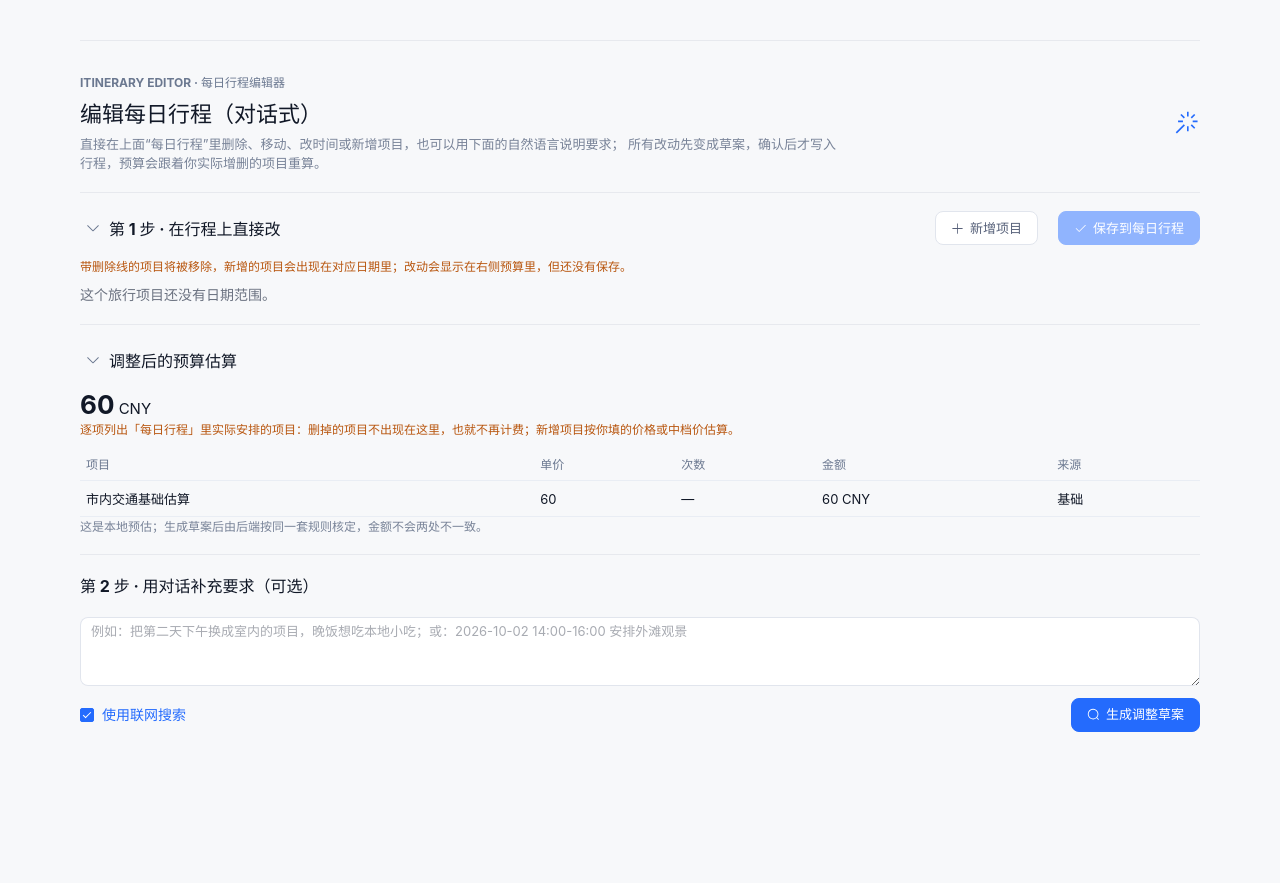
Test: TripAdjustmentAgent › keeps the itinerary unchanged when a draft is rejected
The width and height of the screenshot is (1280, 883).
Type "2026-10-02 14:00-16:00 安排 Agent Museum" into the text box named "行程调整指令" at point(640, 651), box left=80, top=617, right=1200, bottom=686
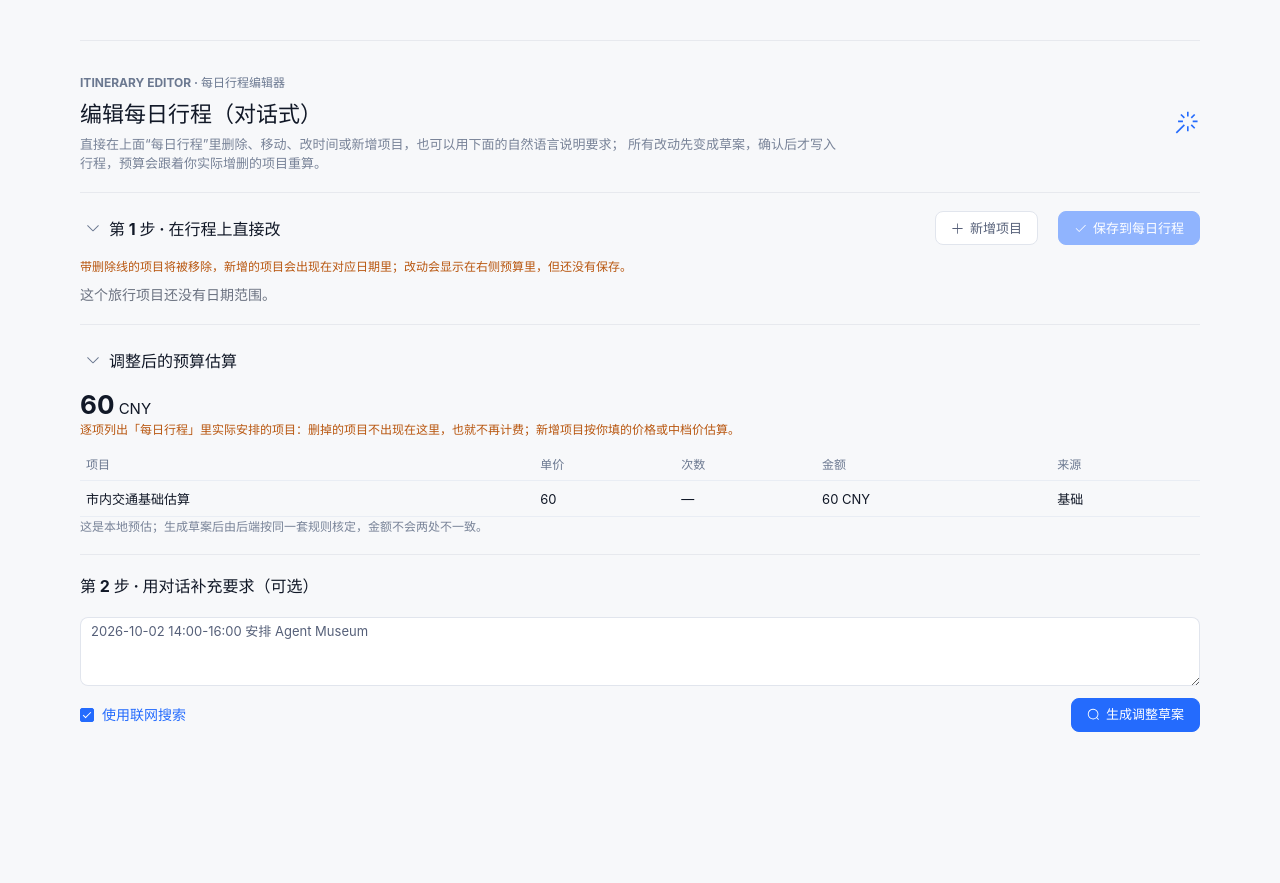
Submit the form, box left=80, top=617, right=1200, bottom=732
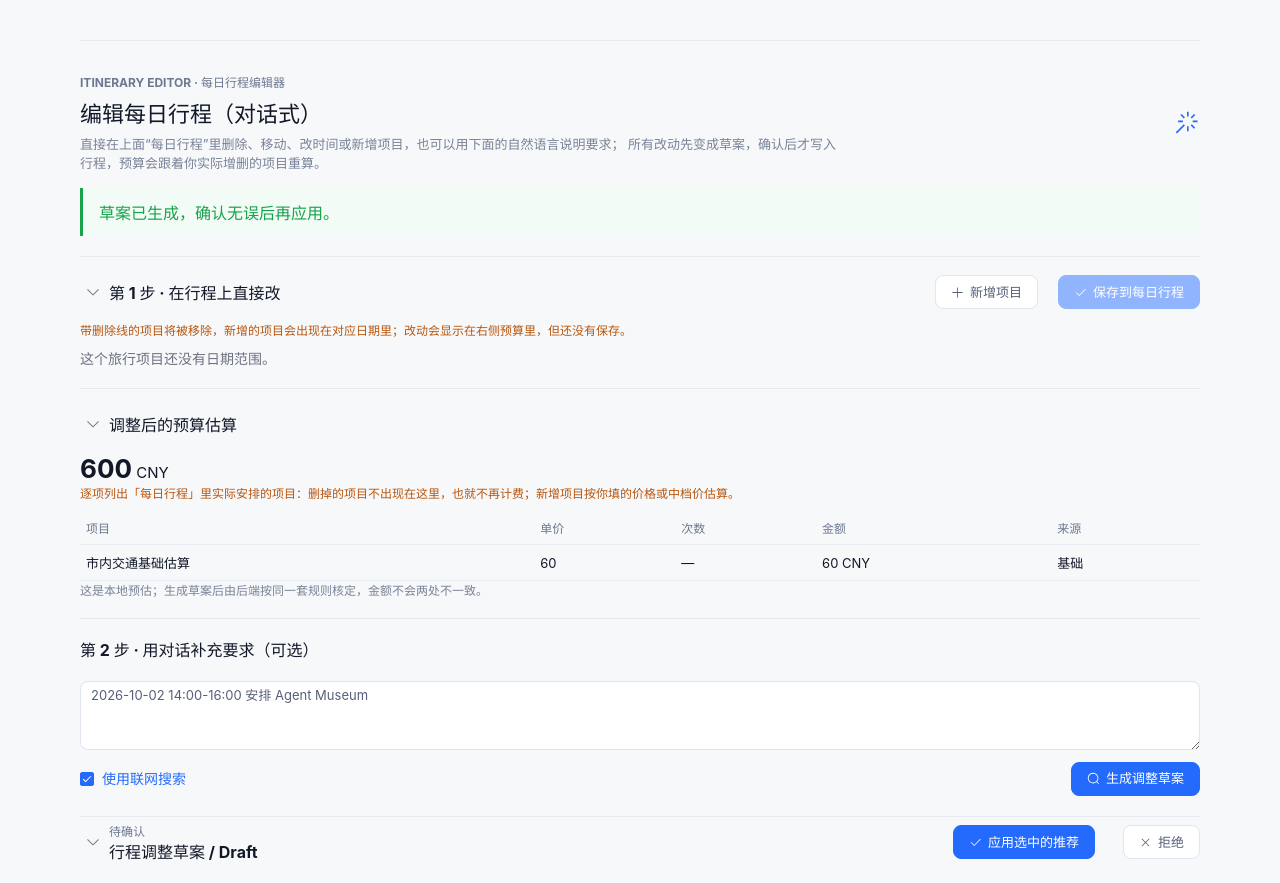
Click the button with aria-label "拒绝调整草案" at point(1162, 842), box left=1123, top=825, right=1200, bottom=859
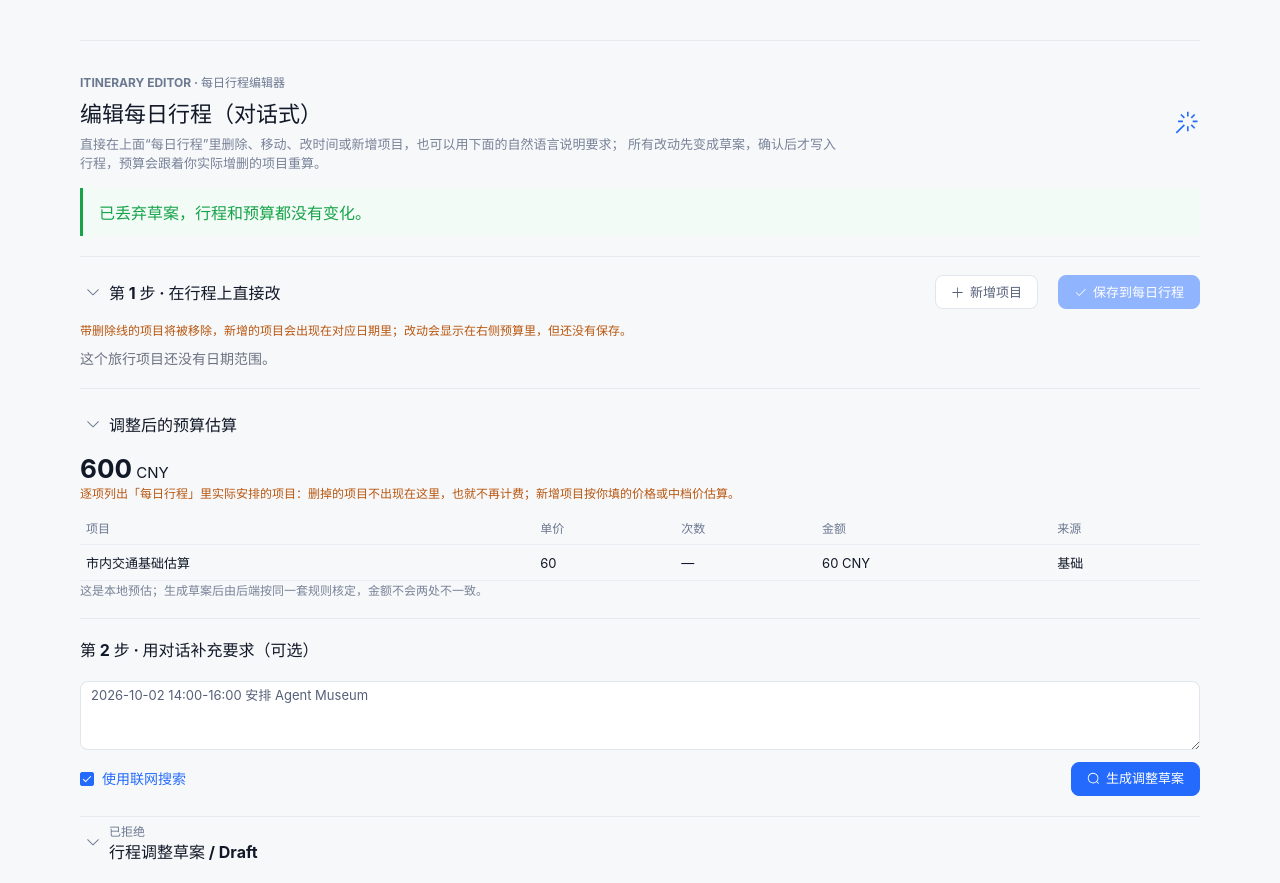
Now the text "已拒绝" is shown, box left=109, top=822, right=145, bottom=838
